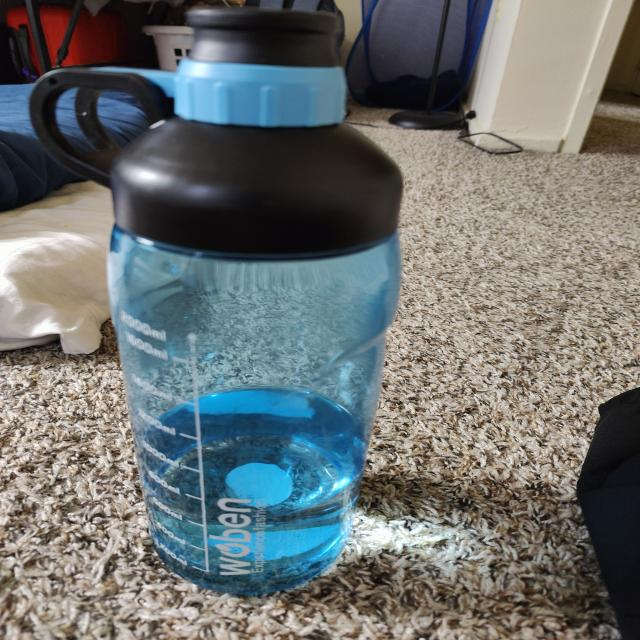bottle: (30, 21, 397, 593)
